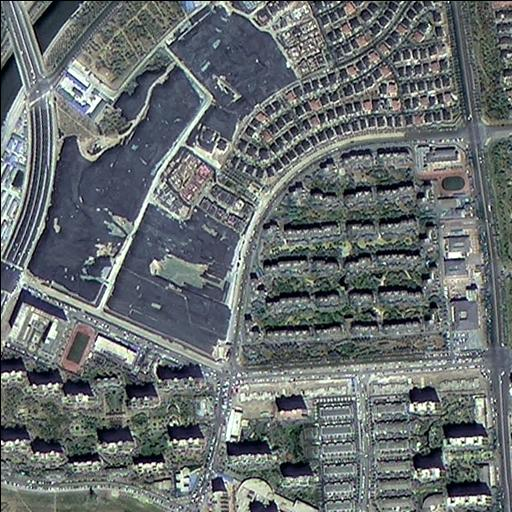school: (54, 318, 141, 381), (413, 142, 473, 197)
